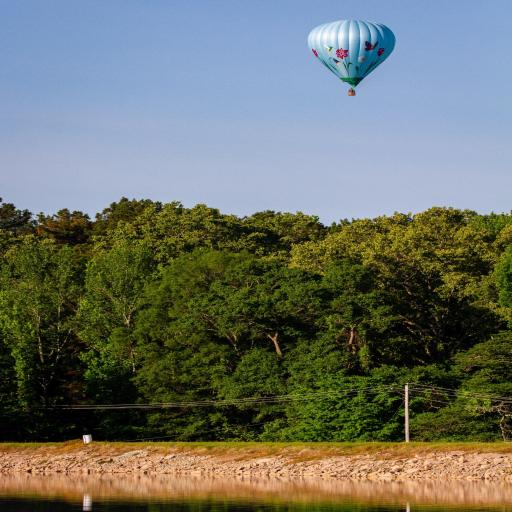hot air ballon: (308, 20, 397, 96)
